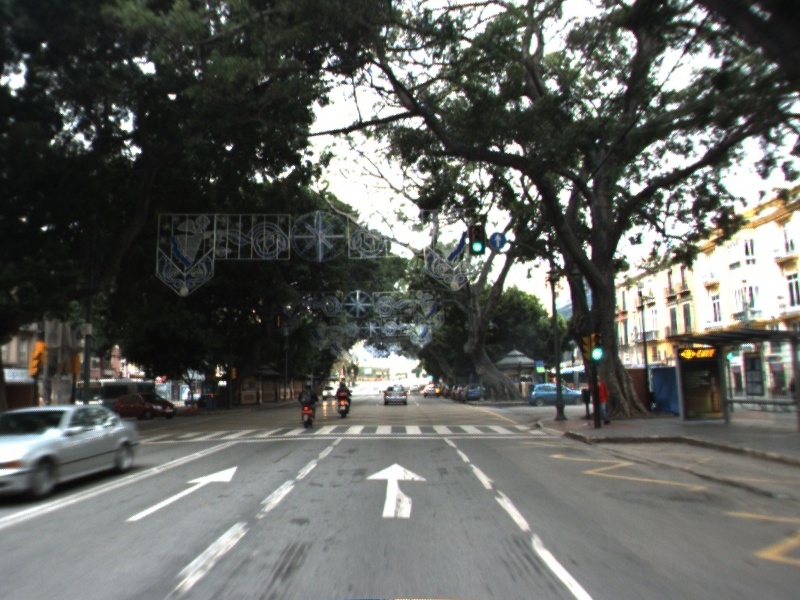STRAIGHT: (122, 465, 240, 523), (363, 461, 430, 520)
